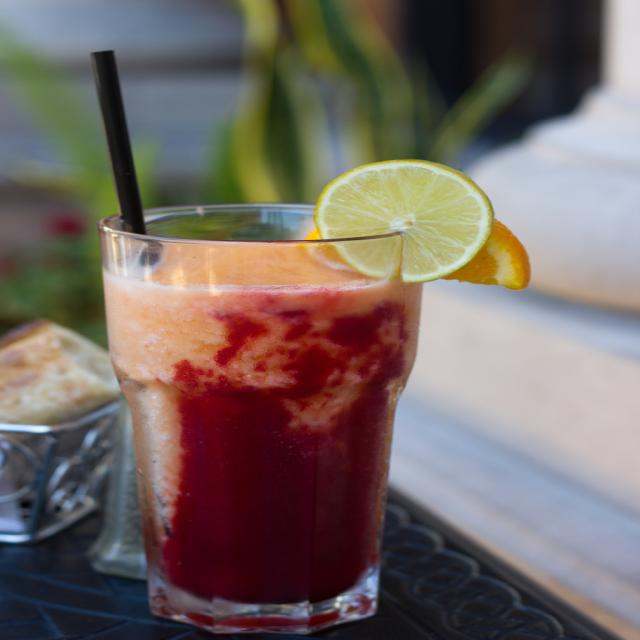Lemon: (318, 157, 498, 282)
